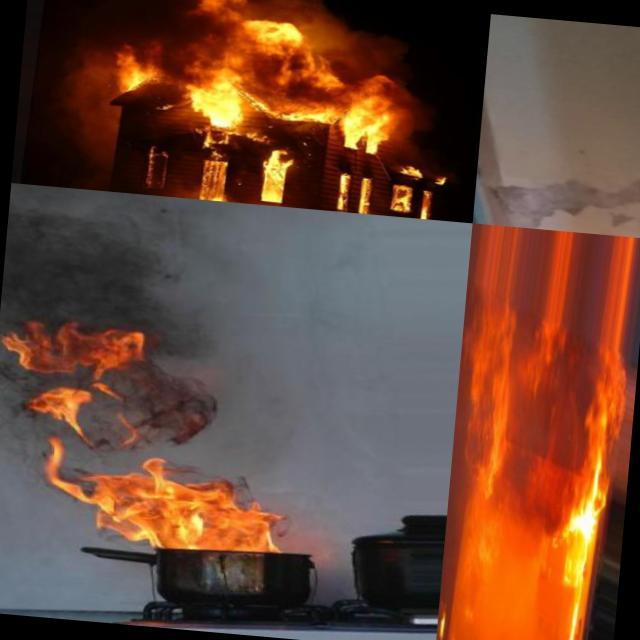fire: (36, 445, 291, 556), (0, 311, 144, 432), (454, 316, 515, 506), (548, 455, 603, 640), (178, 64, 247, 130), (332, 83, 394, 152), (384, 162, 449, 218), (236, 13, 315, 54), (104, 46, 158, 95), (198, 126, 268, 156), (252, 146, 301, 184), (337, 170, 378, 214), (190, 160, 232, 200), (276, 103, 331, 133), (144, 143, 174, 188), (312, 58, 346, 91), (190, 0, 242, 20), (435, 597, 458, 640), (222, 43, 248, 68), (152, 99, 177, 113)
smoke: (0, 184, 233, 328), (500, 376, 572, 532), (134, 361, 231, 452), (243, 49, 316, 104), (184, 15, 228, 67), (390, 88, 421, 144), (156, 36, 186, 84), (363, 70, 399, 88)
